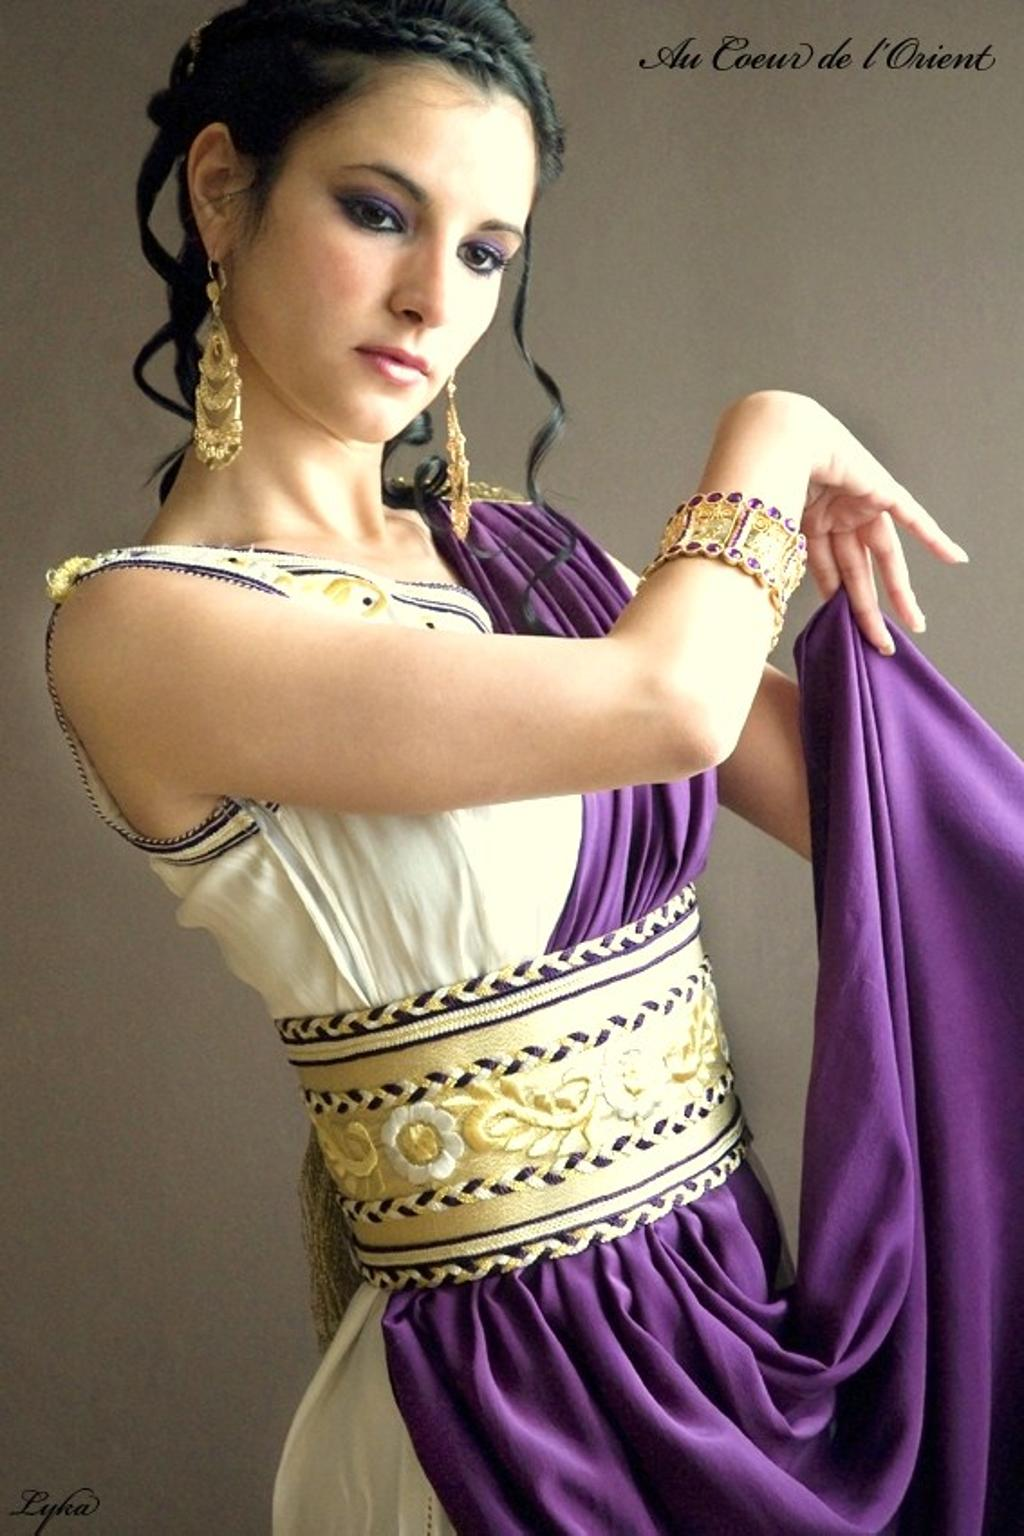face: (260, 72, 515, 413)
